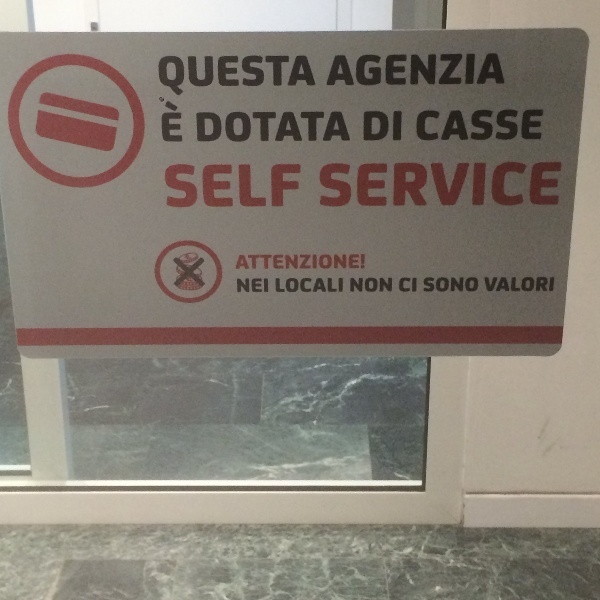text: (177, 163, 192, 212), (193, 163, 208, 212), (209, 163, 224, 212), (225, 163, 240, 212), (241, 163, 256, 212), (257, 163, 272, 212), (273, 163, 288, 212), (321, 162, 336, 208), (337, 162, 352, 208), (353, 162, 368, 208), (369, 162, 384, 208), (385, 162, 400, 208), (401, 162, 416, 208), (417, 162, 432, 208), (433, 162, 448, 208), (449, 162, 464, 208), (465, 162, 480, 208), (481, 162, 496, 208), (497, 162, 512, 208), (513, 162, 528, 208), (529, 162, 544, 208), (545, 162, 560, 208), (161, 101, 176, 144), (289, 163, 302, 212), (161, 55, 176, 97), (177, 55, 192, 97), (193, 55, 208, 97), (209, 55, 224, 97), (225, 55, 240, 97), (241, 55, 256, 97), (257, 55, 272, 97), (273, 55, 288, 97), (289, 55, 304, 97), (164, 163, 176, 212), (209, 110, 224, 144), (225, 110, 240, 144), (241, 110, 256, 144), (257, 110, 272, 144), (273, 110, 288, 144), (289, 110, 304, 144), (305, 110, 320, 144), (321, 110, 336, 144), (305, 55, 317, 97), (337, 54, 352, 87), (353, 54, 368, 87), (369, 54, 384, 87), (385, 54, 400, 87), (401, 54, 416, 87), (417, 54, 432, 87), (433, 54, 448, 87), (449, 54, 464, 87), (465, 54, 480, 87), (481, 54, 496, 87), (417, 109, 432, 142), (433, 109, 448, 142), (449, 109, 464, 142), (465, 109, 480, 142), (481, 109, 496, 142), (497, 109, 512, 142), (513, 109, 528, 142), (529, 109, 544, 142), (369, 110, 384, 142), (385, 110, 400, 142), (337, 110, 351, 144), (197, 110, 208, 144), (177, 101, 184, 144), (497, 54, 506, 87), (241, 254, 256, 270), (257, 254, 272, 270), (273, 254, 288, 270), (289, 254, 304, 270), (305, 254, 320, 270), (321, 254, 336, 270), (337, 254, 352, 270), (241, 279, 256, 294), (289, 278, 304, 293), (305, 278, 320, 293), (321, 278, 336, 293), (353, 278, 368, 293), (369, 278, 384, 293), (433, 278, 448, 293), (449, 278, 464, 293), (497, 277, 512, 292), (513, 277, 528, 292), (529, 277, 544, 292), (401, 278, 417, 292), (465, 278, 478, 293), (353, 254, 365, 270), (257, 279, 269, 294), (276, 278, 288, 293), (484, 277, 496, 292), (545, 277, 555, 292), (423, 278, 432, 293), (364, 110, 368, 142), (385, 278, 393, 293), (561, 162, 563, 208), (337, 278, 343, 293), (401, 110, 403, 142), (159, 55, 160, 97), (238, 279, 240, 294), (351, 278, 352, 293), (399, 278, 400, 292)
